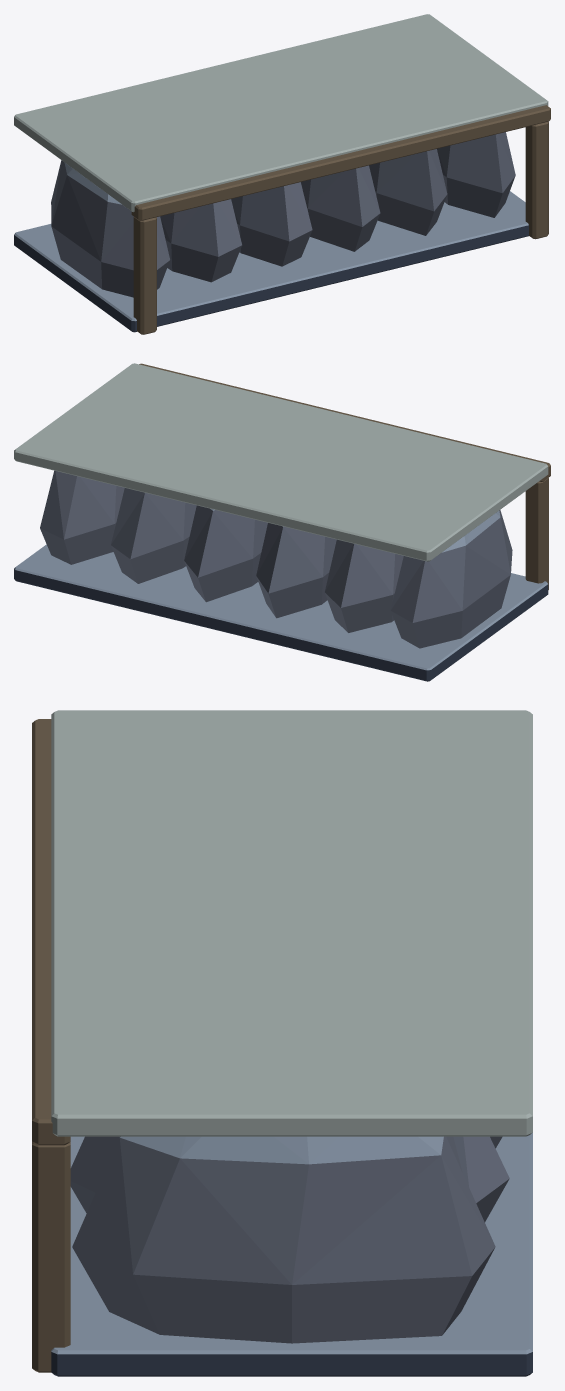
The model's file is platform-wide.glb.
The picture shows the model from 3 angles, top to bottom: view 1: azimuth 30°, elevation 25°; view 2: azimuth 150°, elevation 25°; view 3: azimuth 270°, elevation 25°; orthographic projection. The views are drawn at different scales.
Parts seen in each view (by area): view 1: platform-wide__body; view 2: platform-wide__body; view 3: platform-wide__body.
Boxes of the visible parts, x1,y1,x2,y2 form: platform-wide__body: (14,14,550,334); platform-wide__body: (14,363,550,681); platform-wide__body: (32,710,532,1376).
Size of the model in its own units: 4 by 1.2 by 2.08.
